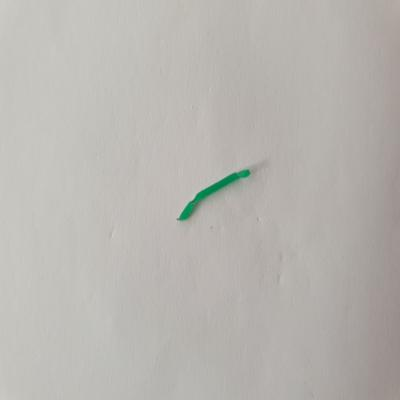thread: (175, 165, 261, 224)
